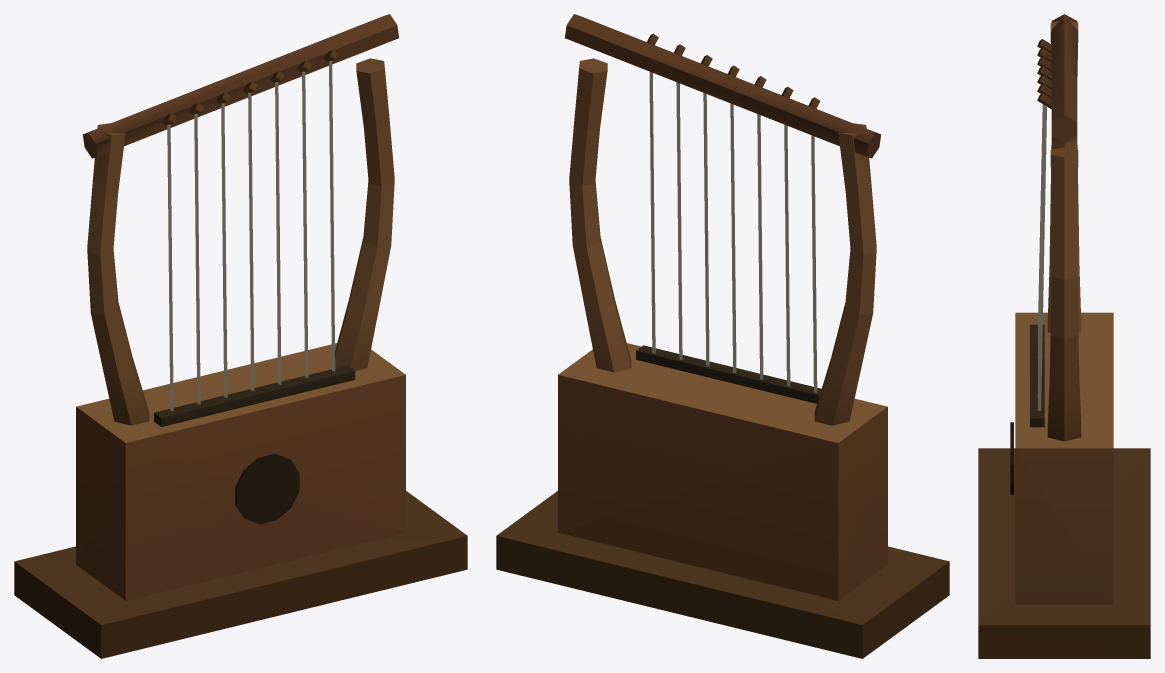
3 views of the same model, side by side, from view 1: azimuth 30°, elevation 25°; view 2: azimuth 150°, elevation 25°; view 3: azimuth 270°, elevation 25° (orthographic).
Parts seen in each view (by area): view 1: base; view 2: base; view 3: base.
Boxes of the visible parts, x1,y1,x2,y2 form: base: (14,14,467,658); base: (496,14,949,658); base: (978,14,1150,658).
Bounding box in the file's own units: 0.34 × 0.4719 × 0.14.
